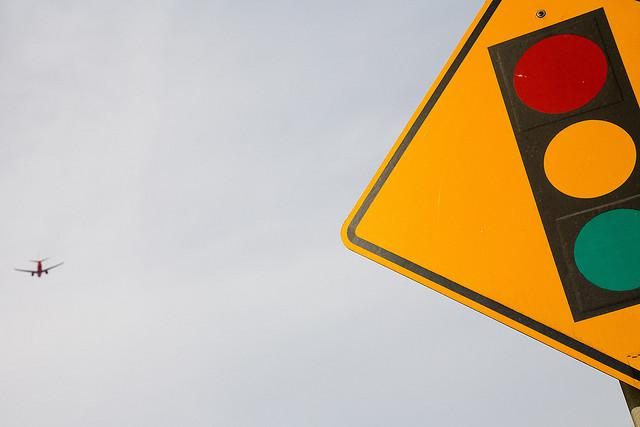Airplane: (14, 259, 60, 280)
